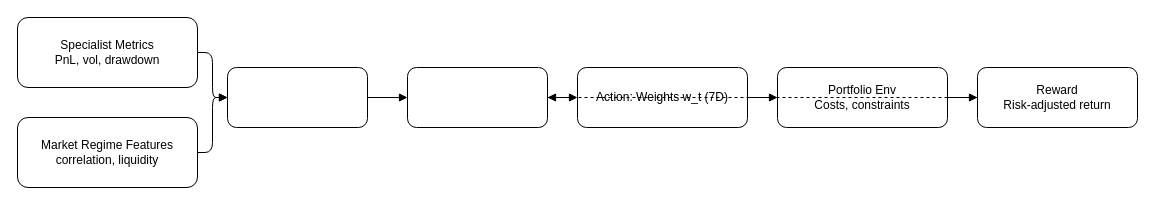
Some shapes in this 1155 by 205 pixel diagram are drawn without their labels. Each missing label, with the centre of its shape:
"PPO Allocator" goes at point (477, 97).
"State Builder" goes at point (297, 97).
